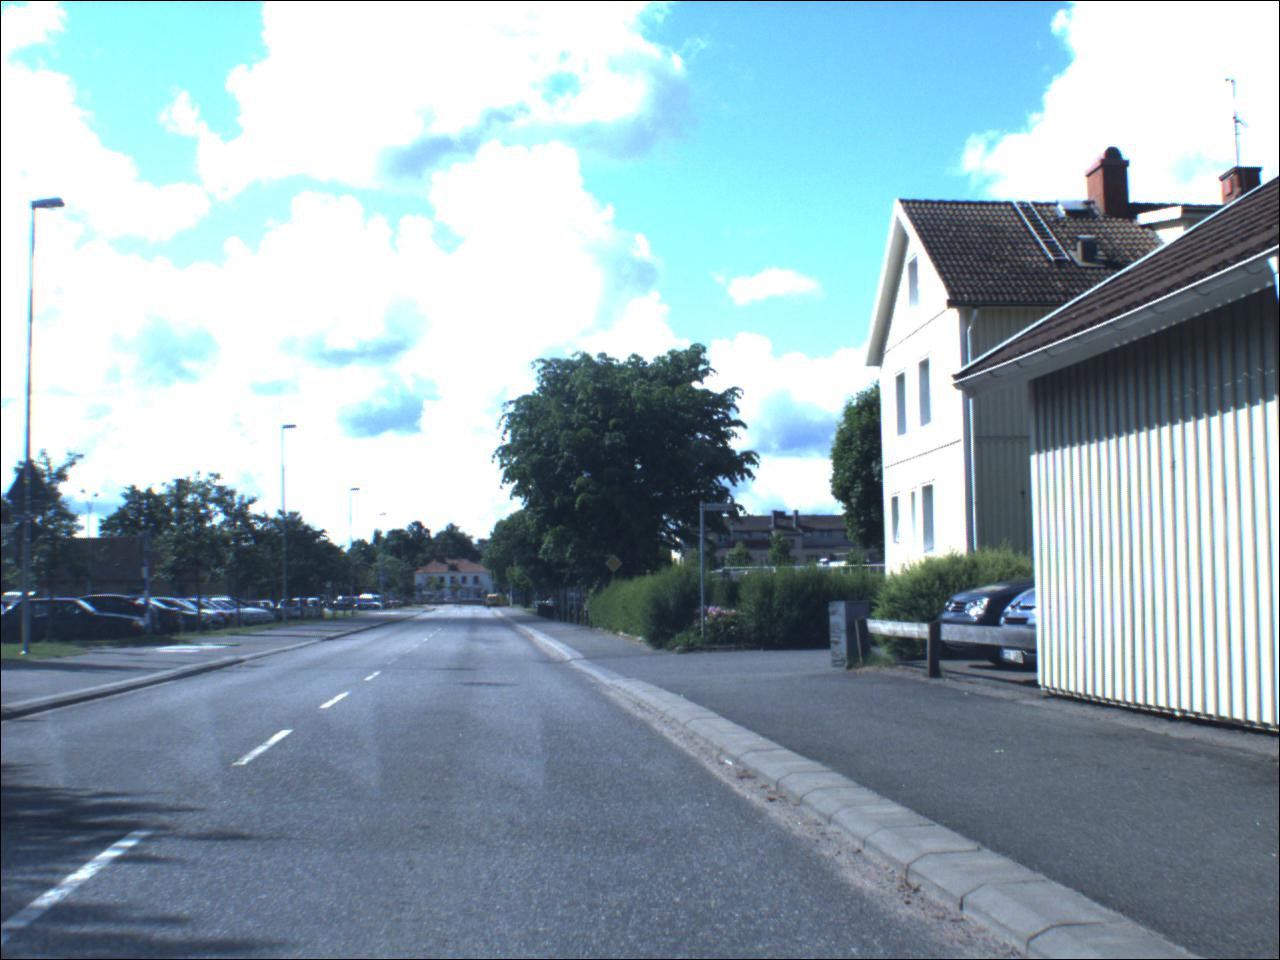PRIORITY_ROAD: (605, 556, 625, 576)
